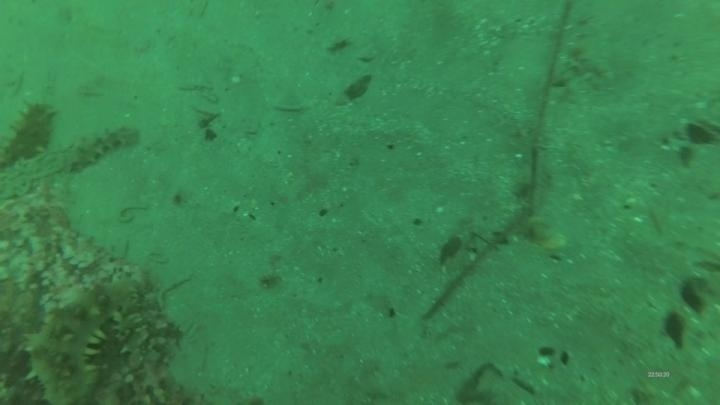holothurian: (20, 272, 143, 404), (59, 121, 141, 176), (0, 98, 59, 169)
